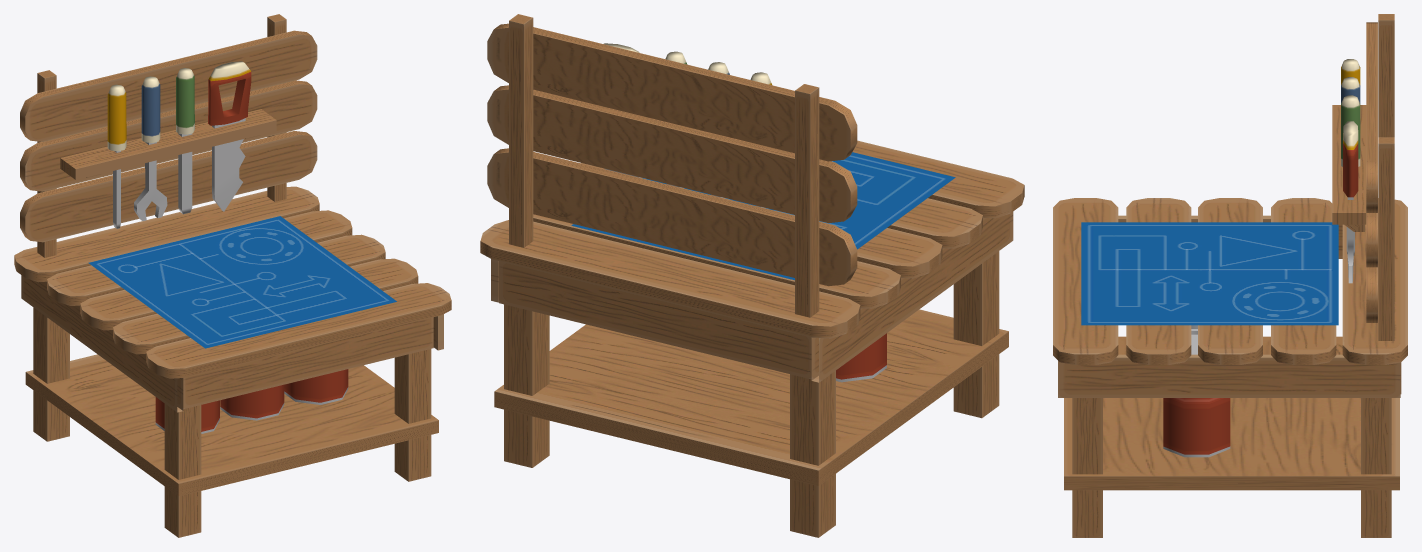
The model's file is Repair Table Hand.fbx.
The picture shows the model from 3 angles, left to right: view 1: azimuth 30°, elevation 25°; view 2: azimuth 150°, elevation 25°; view 3: azimuth 270°, elevation 25°; orthographic projection. The views are drawn at different scales.
Parts seen in each view (by area): view 1: CraftingTable; view 2: CraftingTable; view 3: CraftingTable.
Part boxes in pixels (left/top/right/bottom): CraftingTable: left=14, top=14, right=451, bottom=537; CraftingTable: left=480, top=14, right=1024, bottom=537; CraftingTable: left=1053, top=14, right=1407, bottom=537.
Size of the model in its own units: 0.6931 by 0.8081 by 0.6637.
2 materials, 2 textured.
